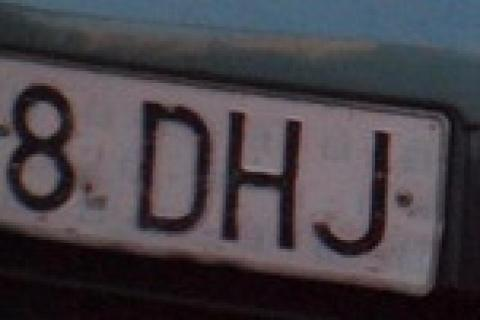LicensePlate: (1, 47, 453, 307)
